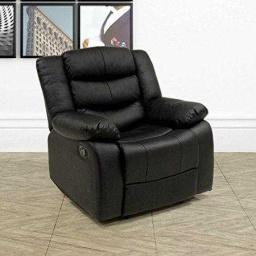Chair: (36, 47, 215, 223)
